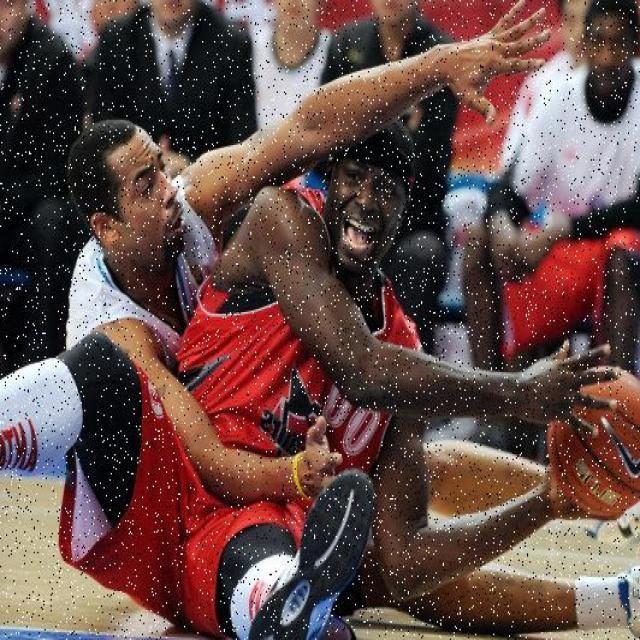fall: (125, 119, 438, 638)
